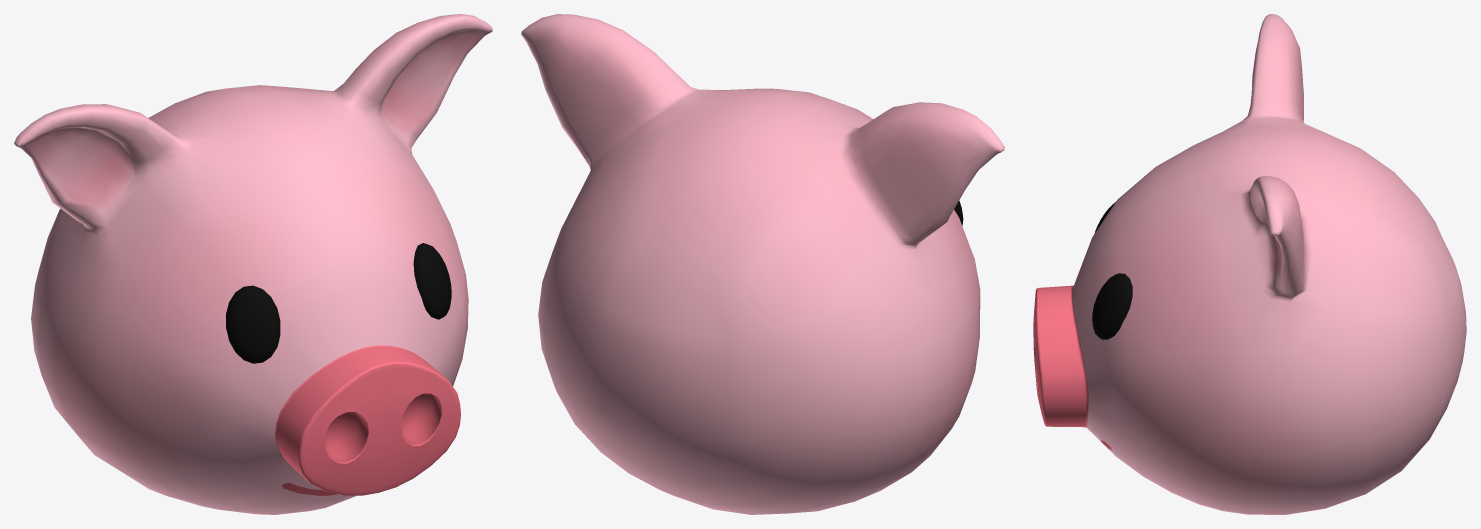
Rendered from Pig.glb.
3 renders of one model, left to right at view 1: azimuth 30°, elevation 25°; view 2: azimuth 150°, elevation 25°; view 3: azimuth 270°, elevation 25°, orthographic. The views are drawn at different scales.
Parts seen in each view (by area): view 1: Pig; view 2: Pig; view 3: Pig.
Part boxes in pixels (bbox=[...]): Pig: bbox=[14, 14, 492, 514]; Pig: bbox=[521, 14, 1004, 514]; Pig: bbox=[1033, 14, 1466, 514].
Size of the model in its own units: 0.0114 by 0.00974 by 0.00982.
Materials: 2 (1 with a texture image).
